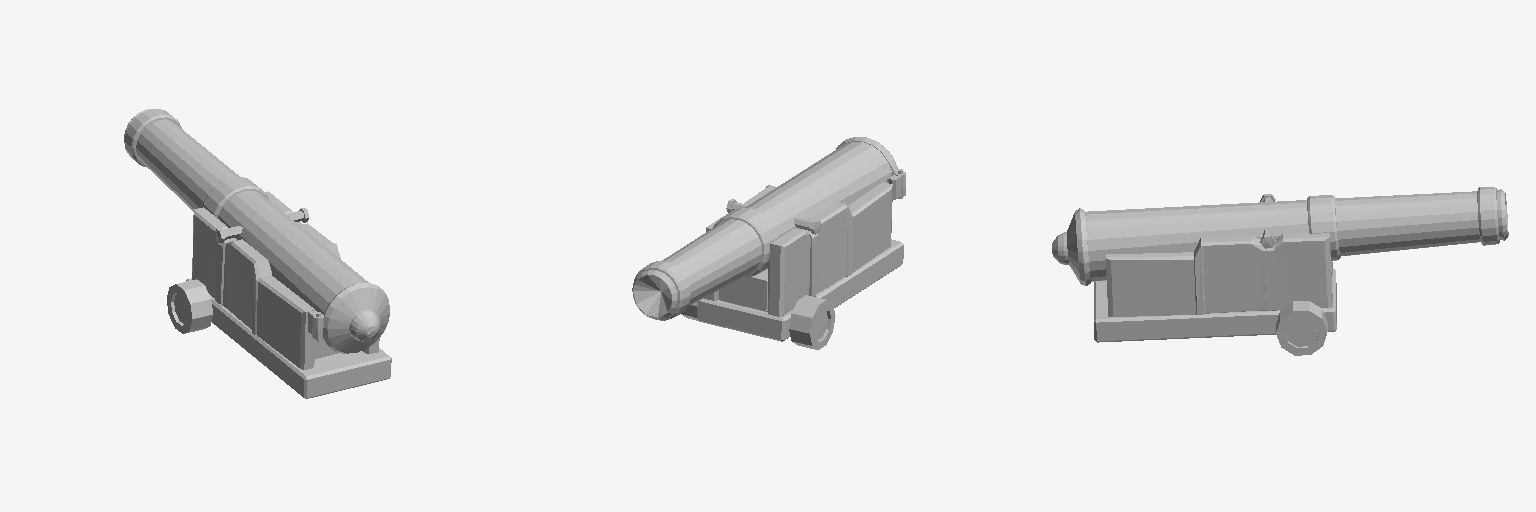
File: CannonV2.obj
3 views of the same model, side by side, from view 1: azimuth 30°, elevation 25°; view 2: azimuth 150°, elevation 25°; view 3: azimuth 270°, elevation 25° (orthographic).
Visible parts, largest first — view 1: New_Cannon_New_Cannon, New_Cannon_Lid_New_Cannon.002; view 2: New_Cannon_New_Cannon, New_Cannon_Lid_New_Cannon.002; view 3: New_Cannon_New_Cannon, New_Cannon_Lid_New_Cannon.002.
Boxes of the visible parts, x1,y1,x2,y2 form: New_Cannon_New_Cannon: [124, 109, 391, 398]; New_Cannon_Lid_New_Cannon.002: [312, 283, 389, 353]; New_Cannon_New_Cannon: [632, 142, 903, 349]; New_Cannon_Lid_New_Cannon.002: [836, 137, 905, 201]; New_Cannon_New_Cannon: [1085, 187, 1508, 355]; New_Cannon_Lid_New_Cannon.002: [1052, 208, 1090, 285].
Bounding box in the file's own units: 17.54 × 17.26 × 52.68.